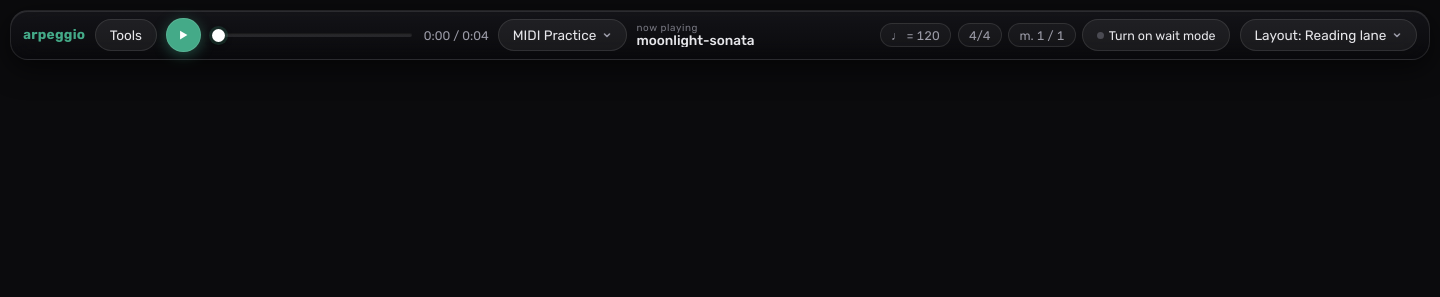
TopBar › MIDI Practice mode: layout pill opens menu with both sections
Click the button "Layout: Reading lane": click(1328, 35) x1=1240 y1=19 x2=1417 y2=51
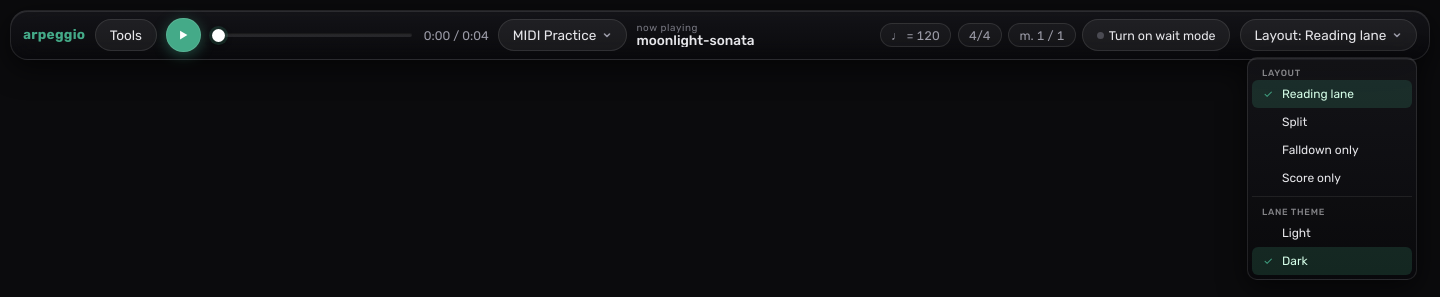
Expected: the menu item "✓ Reading lane" is shown, x1=1252 y1=80 x2=1412 y2=108
Expected: the menu item "Split" is shown, x1=1282 y1=115 x2=1307 y2=129
Expected: the menu item "Light" is shown, x1=1282 y1=226 x2=1311 y2=240
